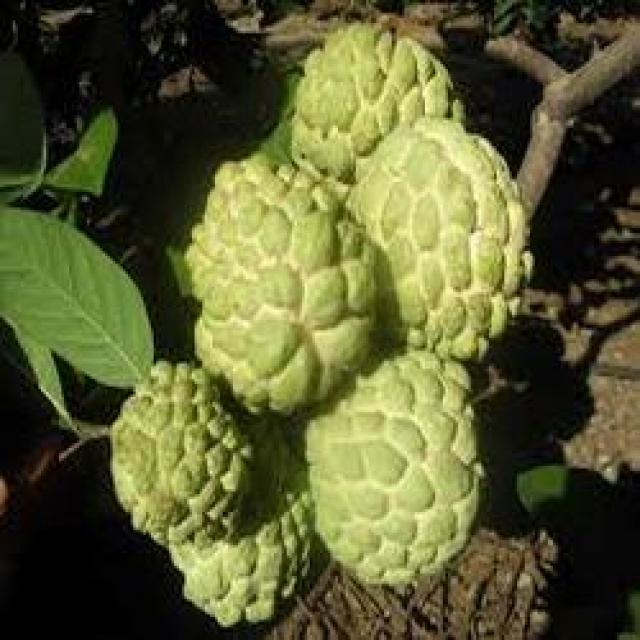apple: (340, 125, 538, 364), (305, 366, 499, 586), (195, 184, 376, 410), (108, 366, 264, 545)
